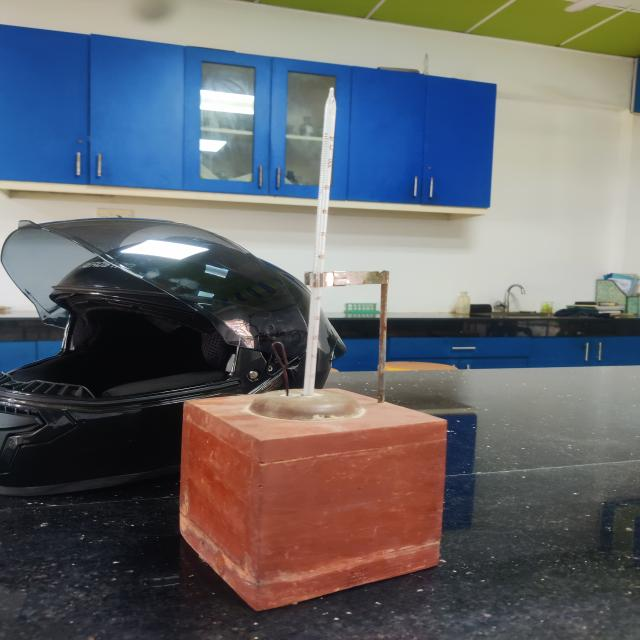Calorimeter: (161, 84, 475, 623)
